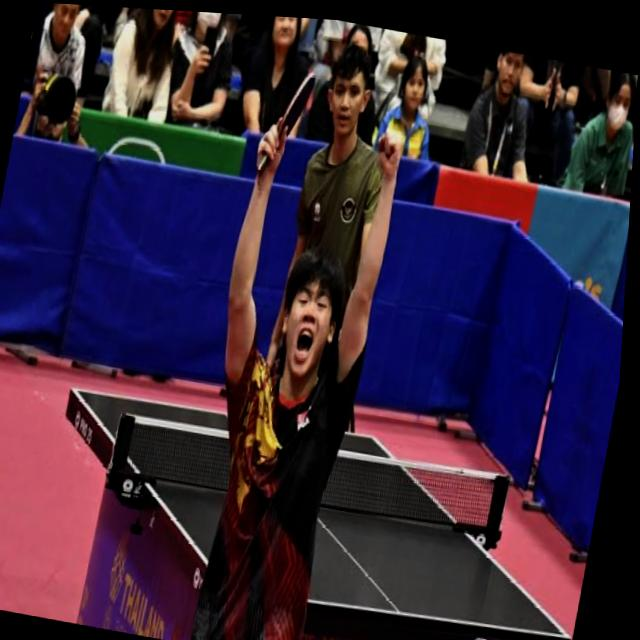TT Net: (105, 411, 511, 548)
TT Racket: (268, 60, 317, 148)
TT Table: (76, 389, 567, 637)
